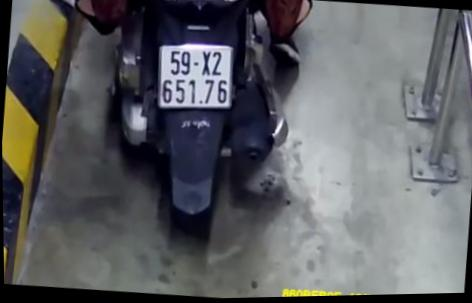LP: (151, 40, 238, 115)
